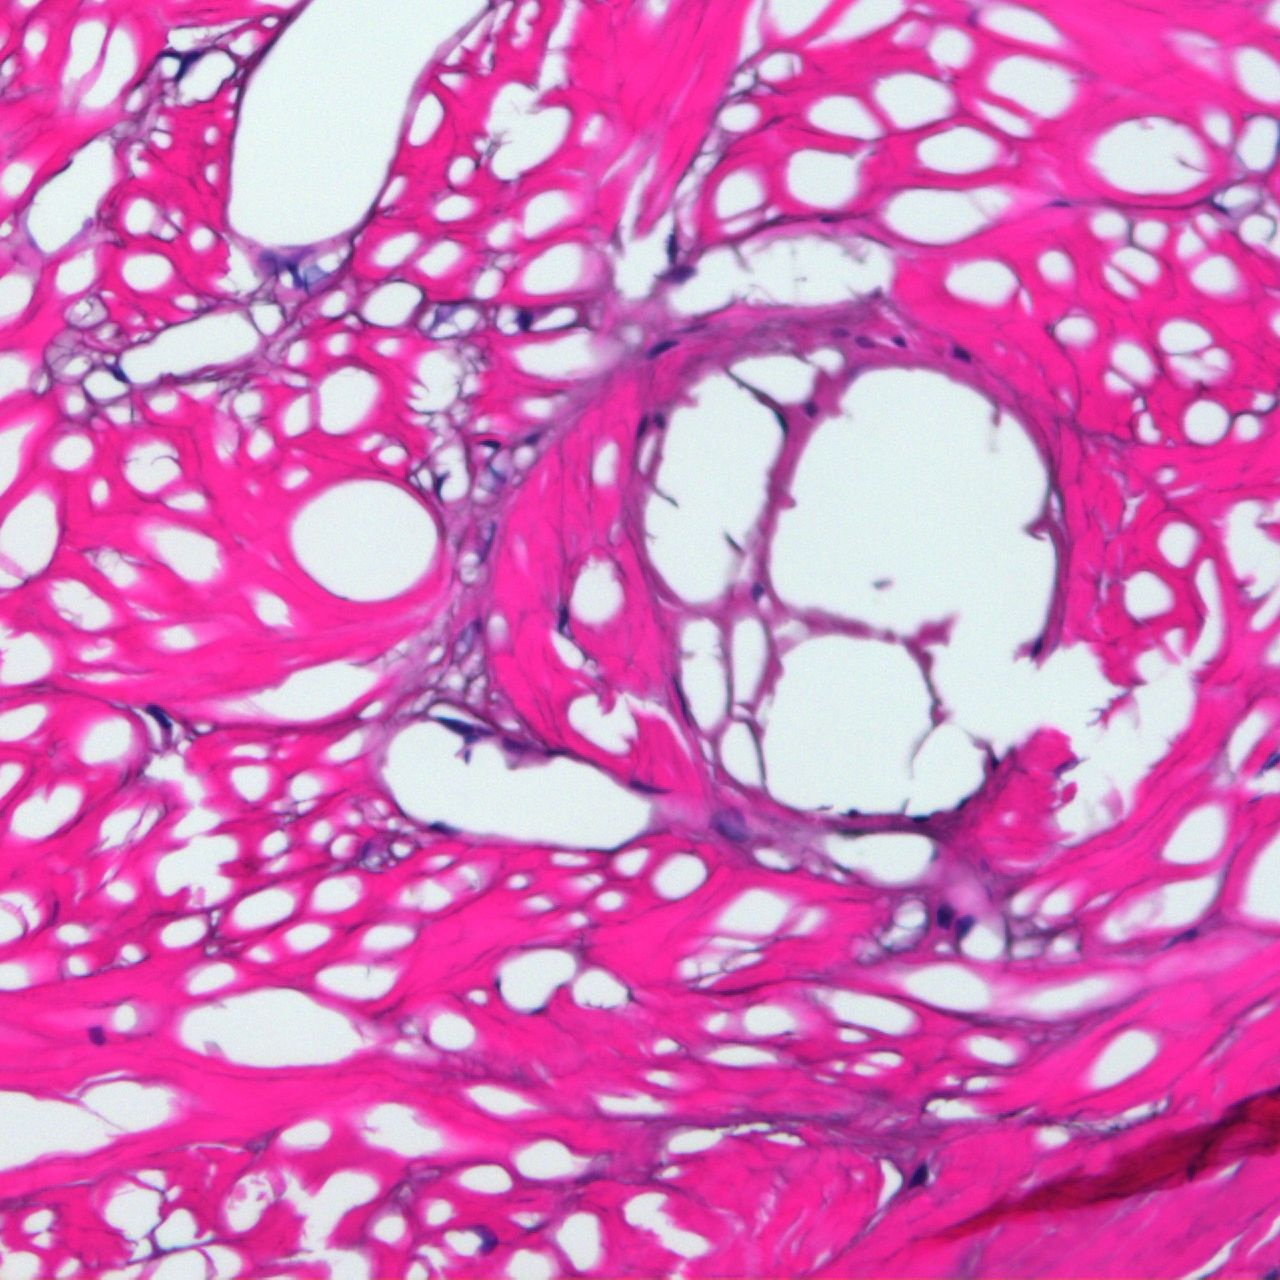nucleus-HE: (904, 1159, 936, 1193), (437, 712, 476, 739), (645, 336, 676, 361), (144, 702, 172, 729), (952, 911, 975, 939), (949, 342, 973, 366), (634, 412, 651, 438), (109, 363, 129, 384), (936, 905, 952, 929), (517, 310, 532, 332), (802, 399, 819, 417), (673, 265, 691, 282), (892, 333, 909, 349), (668, 234, 677, 264), (89, 1026, 104, 1043), (653, 410, 665, 429), (1030, 639, 1043, 656), (752, 582, 763, 600), (483, 438, 499, 448), (913, 817, 928, 822), (822, 215, 833, 221), (848, 808, 856, 816), (991, 759, 998, 768)
